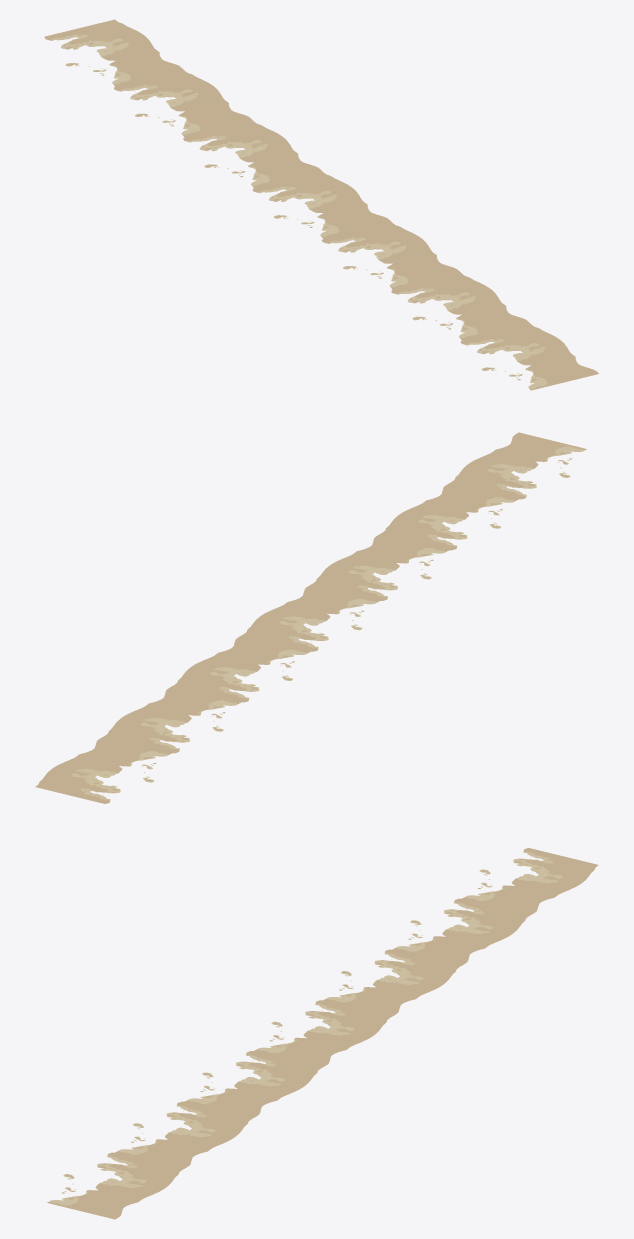
Rendered from Mesh_Adventure_SandBeach_Shadow.fbx.
The picture shows the model from 3 angles, top to bottom: view 1: azimuth 30°, elevation 25°; view 2: azimuth 150°, elevation 25°; view 3: azimuth 330°, elevation 25°; orthographic projection.
Visible parts, largest first — view 1: Mesh_Adventure_SandBeach_Shadow; view 2: Mesh_Adventure_SandBeach_Shadow; view 3: Mesh_Adventure_SandBeach_Shadow.
Part boxes in pixels (x1,y1,x2,y2): Mesh_Adventure_SandBeach_Shadow: [44, 19, 598, 390]; Mesh_Adventure_SandBeach_Shadow: [35, 432, 586, 803]; Mesh_Adventure_SandBeach_Shadow: [47, 848, 598, 1219].
Bounding box in the file's own units: 508 × 1.78e-13 × 3500.
